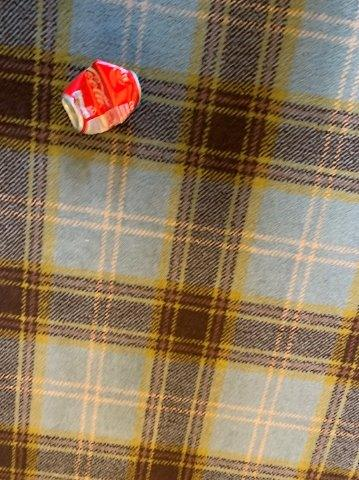kaleng: (61, 58, 142, 135)
